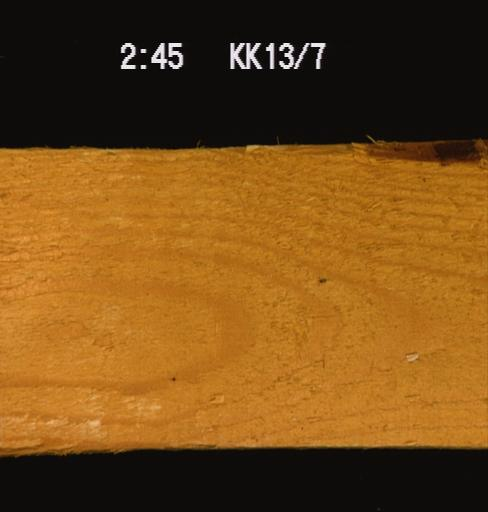small_knot: (314, 272, 327, 287)
wave: (363, 137, 483, 165)
